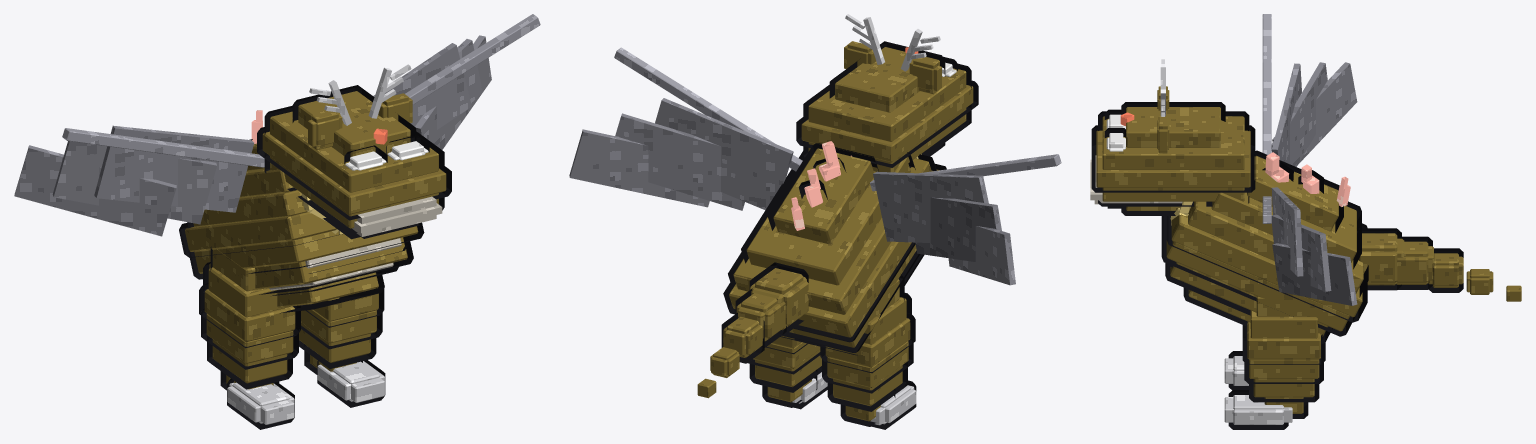
File: guardian_volcano.glb
3 renders of one model, left to right at view 1: azimuth 30°, elevation 25°; view 2: azimuth 150°, elevation 25°; view 3: azimuth 270°, elevation 25°, orthographic. The views are drawn at different scales.
Parts seen in each view (by area): view 1: model; view 2: model; view 3: model.
Part boxes in pixels (x1,y1,x2,y2): model: (14, 14, 540, 429); model: (569, 14, 1061, 429); model: (1090, 14, 1521, 429).
Bounding box in the file's own units: 2.86 × 2.11 × 2.53.
11 materials, 10 textured.
